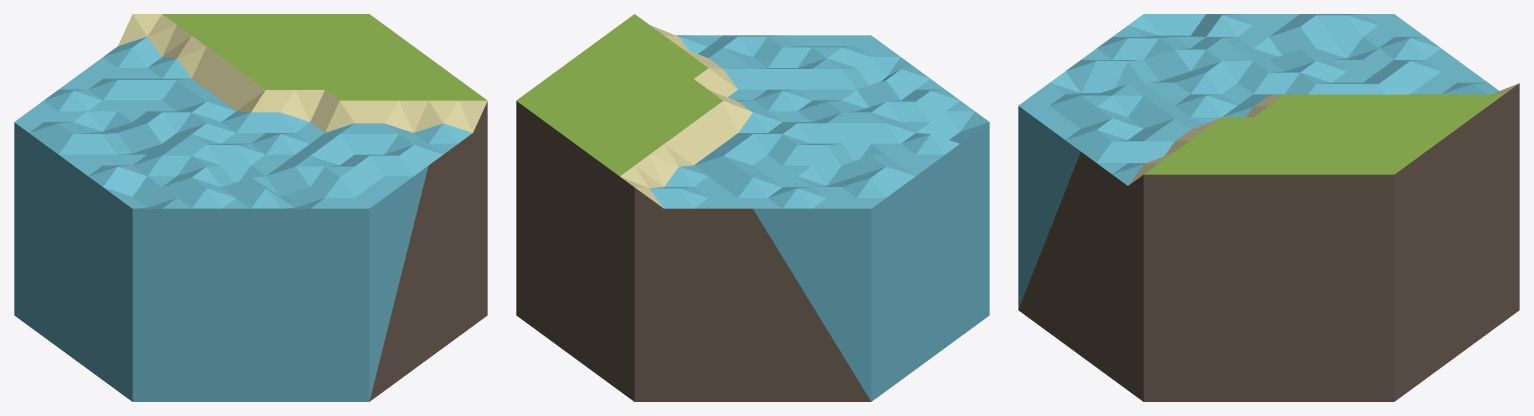
The model's file is coast2a.fbx.
3 views of the same model, side by side, from view 1: azimuth 30°, elevation 25°; view 2: azimuth 150°, elevation 25°; view 3: azimuth 270°, elevation 25° (orthographic). The views are drawn at different scales.
Parts seen in each view (by area): view 1: Cylinder; view 2: Cylinder; view 3: Cylinder.
Boxes of the visible parts, x1,y1,x2,y2 form: Cylinder: (14,14,487,401); Cylinder: (516,14,989,401); Cylinder: (1018,14,1519,401).
Bounding box in the file's own units: 1.73 × 1 × 2.
